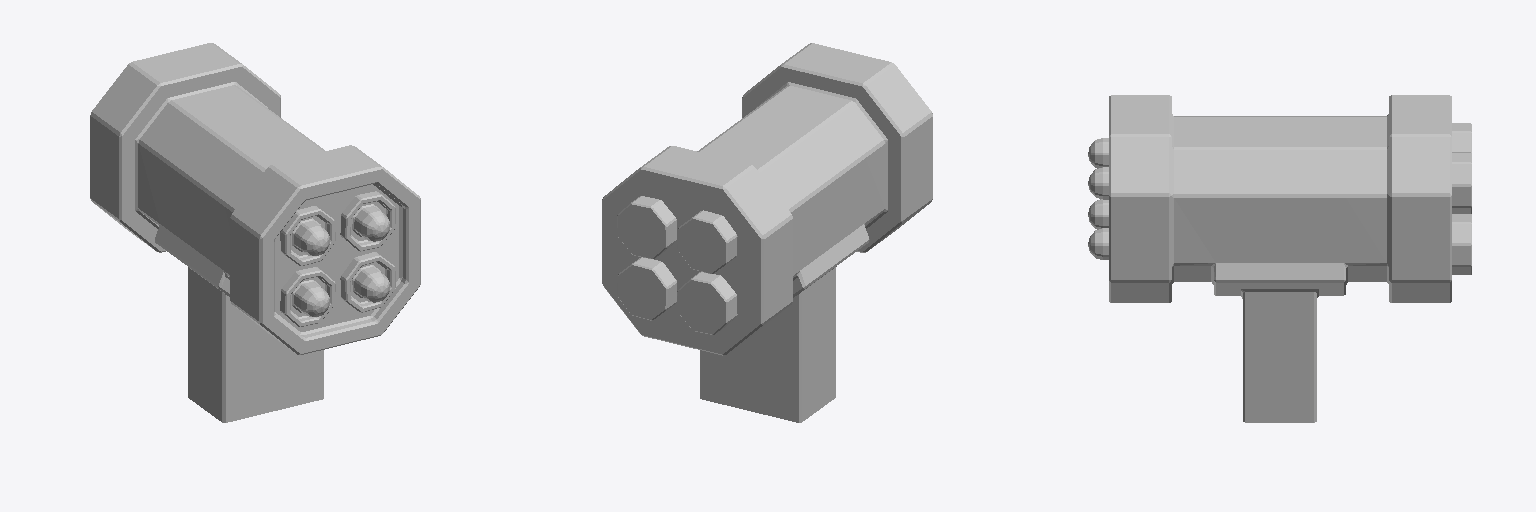
The model's file is MissileLauncher.obj.
3 views of the same model, side by side, from view 1: azimuth 30°, elevation 25°; view 2: azimuth 150°, elevation 25°; view 3: azimuth 270°, elevation 25° (orthographic).
Visible parts, largest first — view 1: MissileLauncher_Cube; view 2: MissileLauncher_Cube; view 3: MissileLauncher_Cube.
Part boxes in pixels (x1,y1,x2,y2): MissileLauncher_Cube: (90,43,420,422); MissileLauncher_Cube: (602,43,932,422); MissileLauncher_Cube: (1088,95,1471,422).
Bounding box in the file's own units: 0.4889 × 0.8167 × 1.